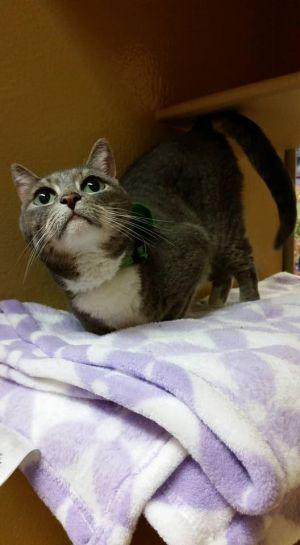bengal: (5, 129, 151, 277)
